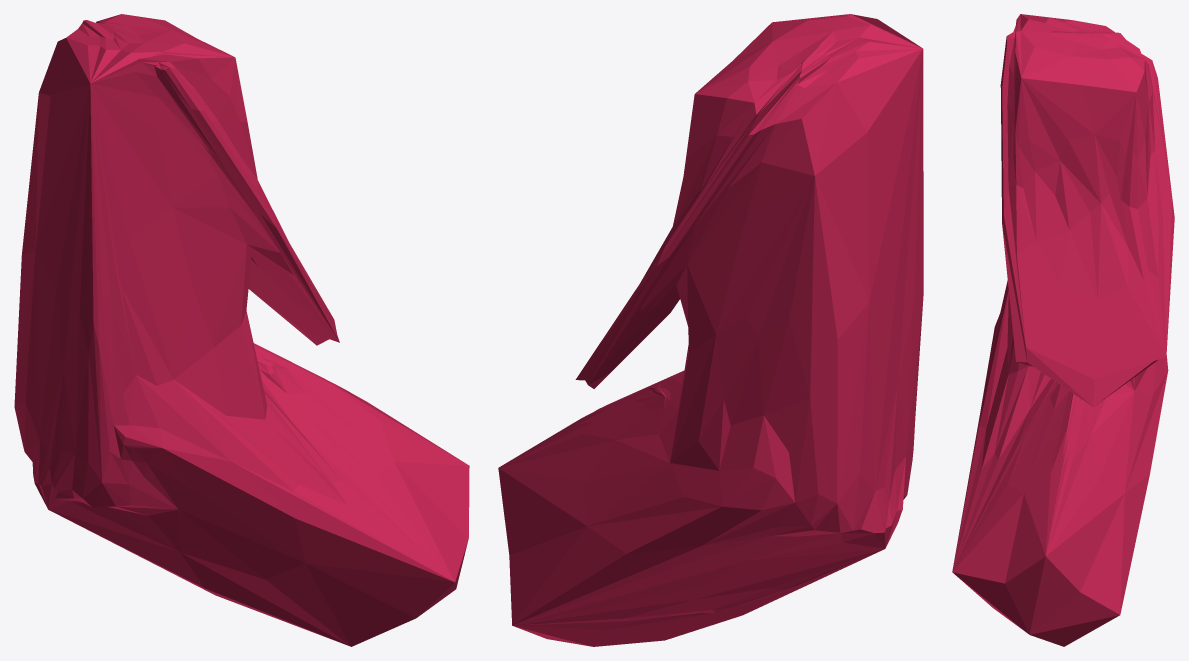
3 renders of one model, left to right at view 1: azimuth 30°, elevation 25°; view 2: azimuth 150°, elevation 25°; view 3: azimuth 270°, elevation 25°, orthographic. The views are drawn at different scales.
Visible parts, largest first — view 1: 241_Cube.991; view 2: 241_Cube.991; view 3: 241_Cube.991.
Boxes of the visible parts, left/top/right/bottom form: 241_Cube.991: left=14, top=14, right=469, bottom=646; 241_Cube.991: left=498, top=14, right=923, bottom=646; 241_Cube.991: left=952, top=14, right=1174, bottom=646.
Bounding box in the file's own units: 11.81 × 18.11 × 7.09.
